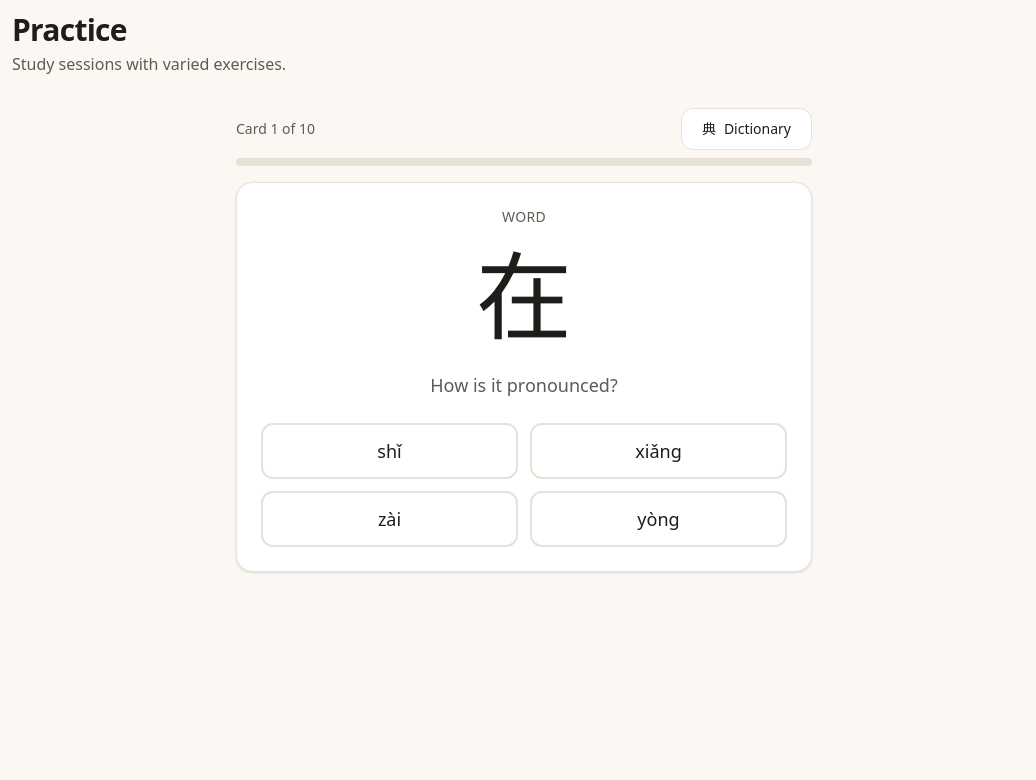
Test: PracticePage › saves each answer to progress
Click the button "shǐ": (390, 451) [261, 423, 518, 479]
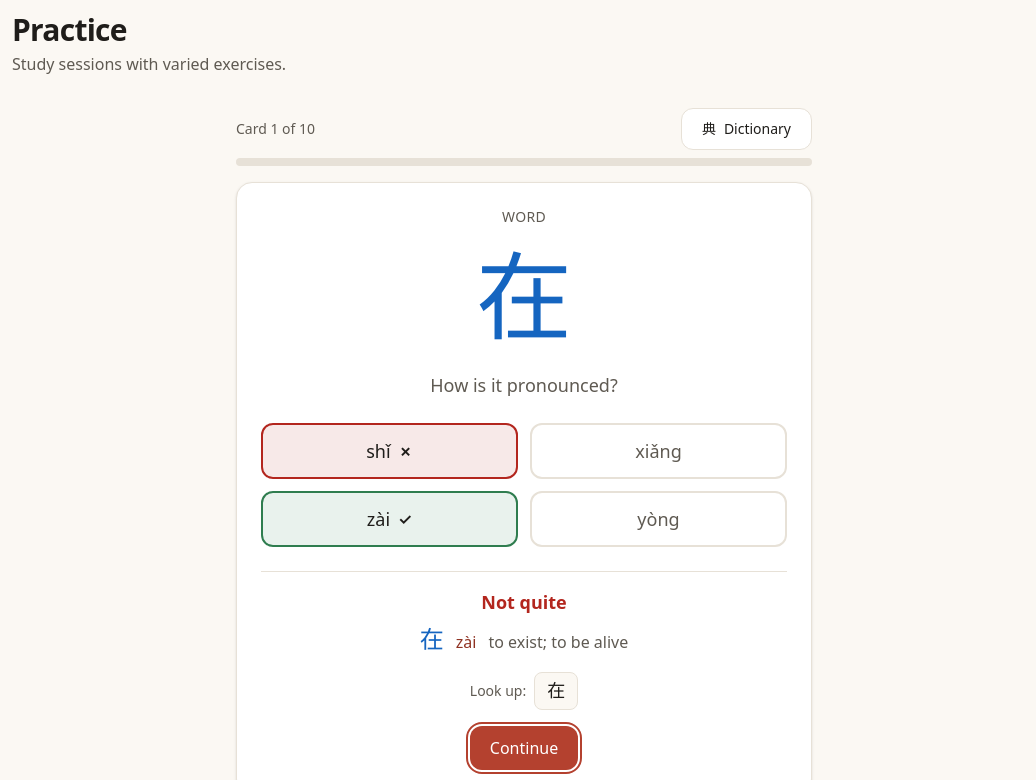
Click the button "Continue": (524, 748) [470, 726, 578, 770]
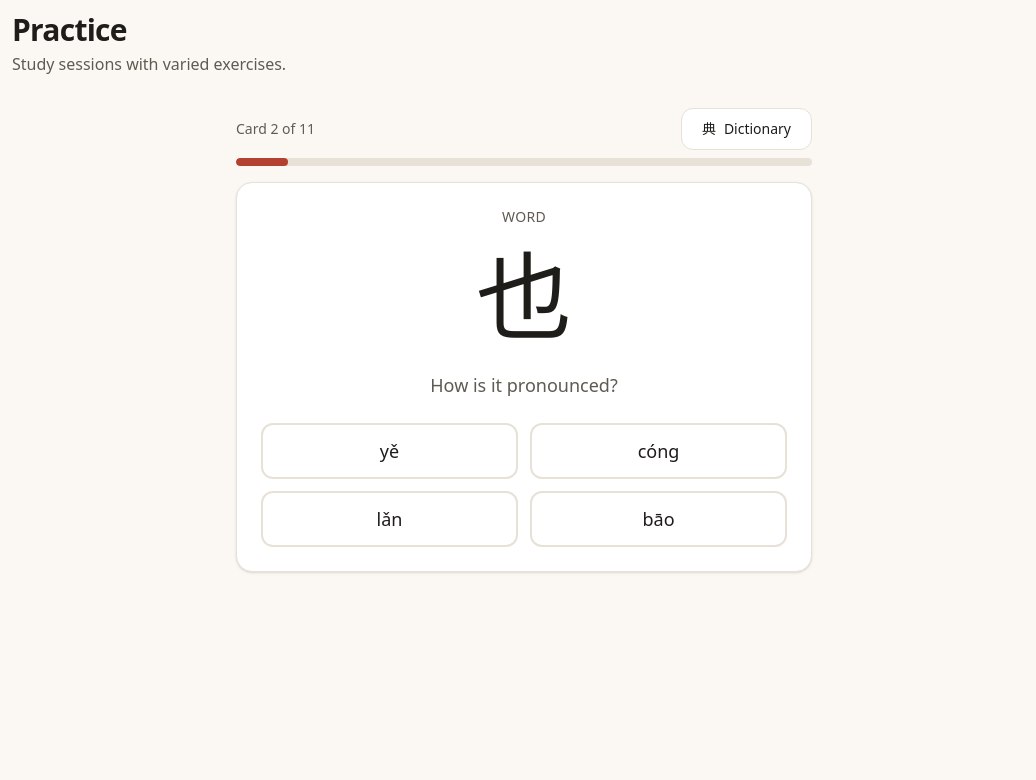
Click the button "yě": (390, 451) [261, 423, 518, 479]
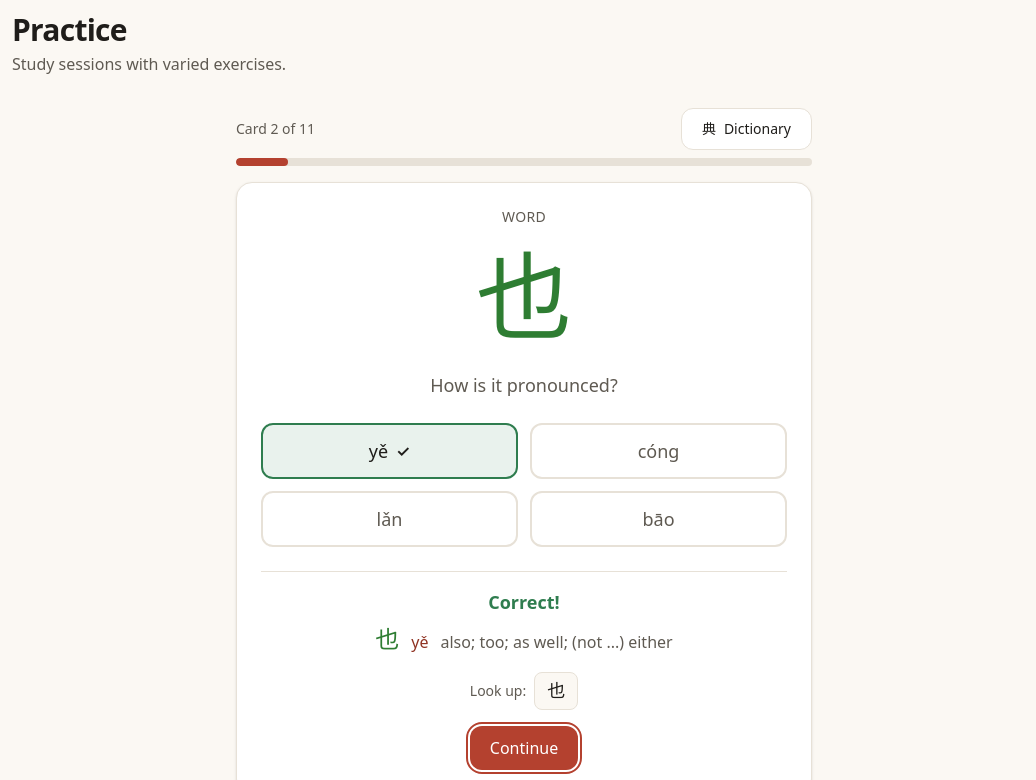
Click the button "Continue": (524, 748) [470, 726, 578, 770]
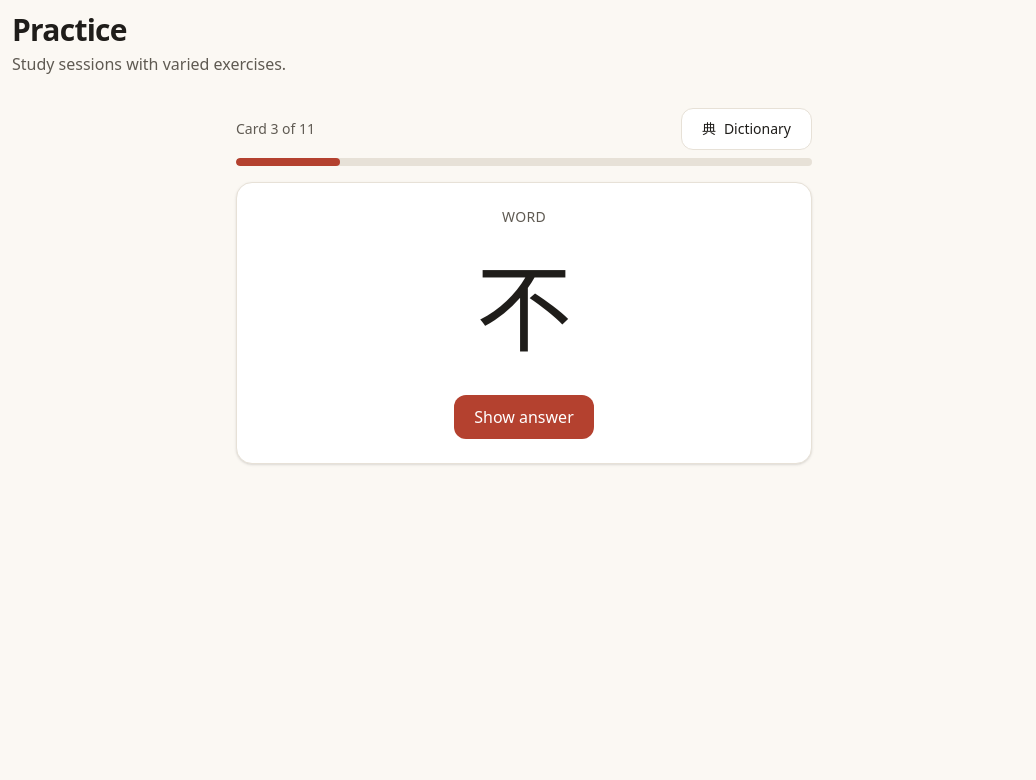
Check: the text "Card 3 of 11" is shown, box [236, 119, 315, 139]
